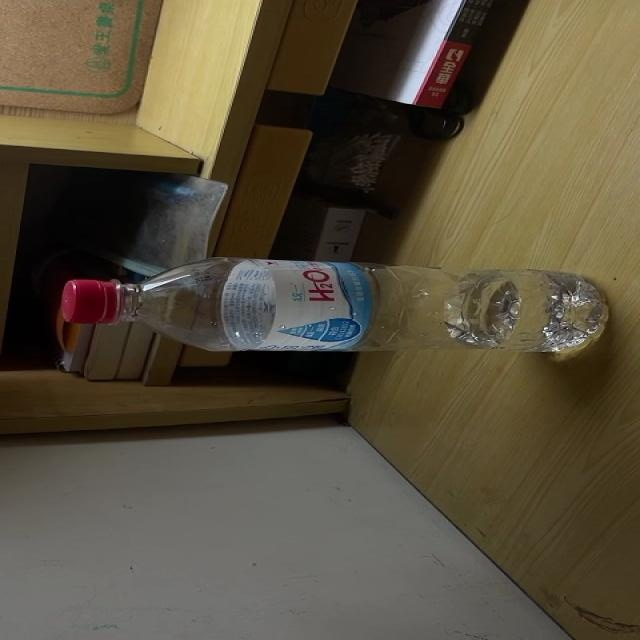Water: (61, 259, 606, 352)
